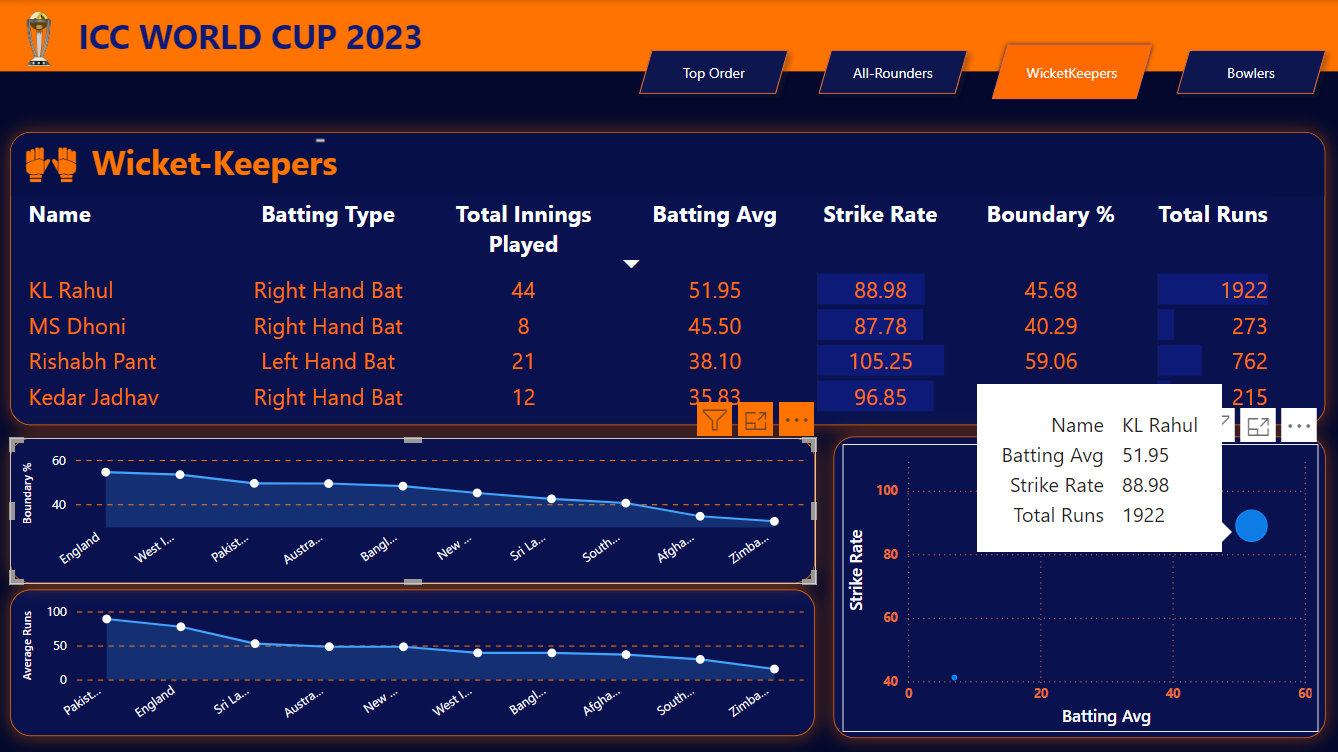

Layout of this report page (visuals, bound fields, positions):
{"tool":"powerbi","page":{"name":"WicketKeepers","canvas":[1280,720],"ordinal":2},"visuals":[{"type":"tableEx","title":" ","fields":{"Values":["Batsman Data.Name","Player Data.Batting Type","Key Measures.Total Innings Played","Key Measures.Batting Avg","Key Measures.Strike Rate","Key Measures.Boundary %","Key Measures.Total Runs"]},"box":[12,126,1256,280],"z":0},{"type":"shape","box":[0,0,1280,68],"z":1000},{"type":"pageNavigator","box":[603.3,38.3,676.7,60],"z":2000},{"type":"areaChart","fields":{"Y":["Key Measures.Boundary %"],"Category":["Batsman Data.Versus"]},"box":[11.7,418.3,768.3,138.3],"z":3000},{"type":"areaChart","fields":{"Y":["Key Measures.Batting Avg"],"Category":["Batsman Data.Versus"]},"box":[11.7,563.3,768.3,140],"z":4000},{"type":"columnChart","fields":{"Category":["Batsman Data.Versus"],"Y":["Key Measures.Batting Avg","Key Measures.Total Innings Played"]},"box":[797.7,416.9,470,288],"z":5000},{"type":"scatterChart","fields":{"Y":["Key Measures.Strike Rate"],"X":["Key Measures.Batting Avg"],"Category":["Player Data.Name"],"Size":["Key Measures.Total Runs"]},"box":[806.9,424.6,453.1,274.6],"z":6000},{"type":"textbox","box":[84,128,282.9,50],"z":7000},{"type":"image","box":[15,122,72,71],"z":8000},{"type":"image","box":[0,0,77.3,73.3],"z":8001},{"type":"textbox","box":[72.1,7.1,487.9,58.6],"z":8002}]}

Visuals, with their boxes in screenshot pixels (x1, y1, x2, y2), scaled from the page's 1280x720 canvas onto the 1338x752 screenshot:
" " tableEx: (x1=13, y1=132, x2=1325, y2=424)
shape: (x1=0, y1=0, x2=1337, y2=71)
pageNavigator: (x1=631, y1=40, x2=1337, y2=103)
areaChart - Key Measures.Boundary % x Batsman Data.Versus: (x1=12, y1=437, x2=815, y2=581)
areaChart - Key Measures.Batting Avg x Batsman Data.Versus: (x1=12, y1=588, x2=815, y2=735)
columnChart - Batsman Data.Versus x Key Measures.Batting Avg: (x1=834, y1=435, x2=1325, y2=736)
scatterChart - Key Measures.Strike Rate x Key Measures.Batting Avg: (x1=843, y1=443, x2=1317, y2=730)
textbox: (x1=88, y1=134, x2=384, y2=186)
image: (x1=16, y1=127, x2=91, y2=202)
image: (x1=0, y1=0, x2=81, y2=77)
textbox: (x1=75, y1=7, x2=585, y2=69)
